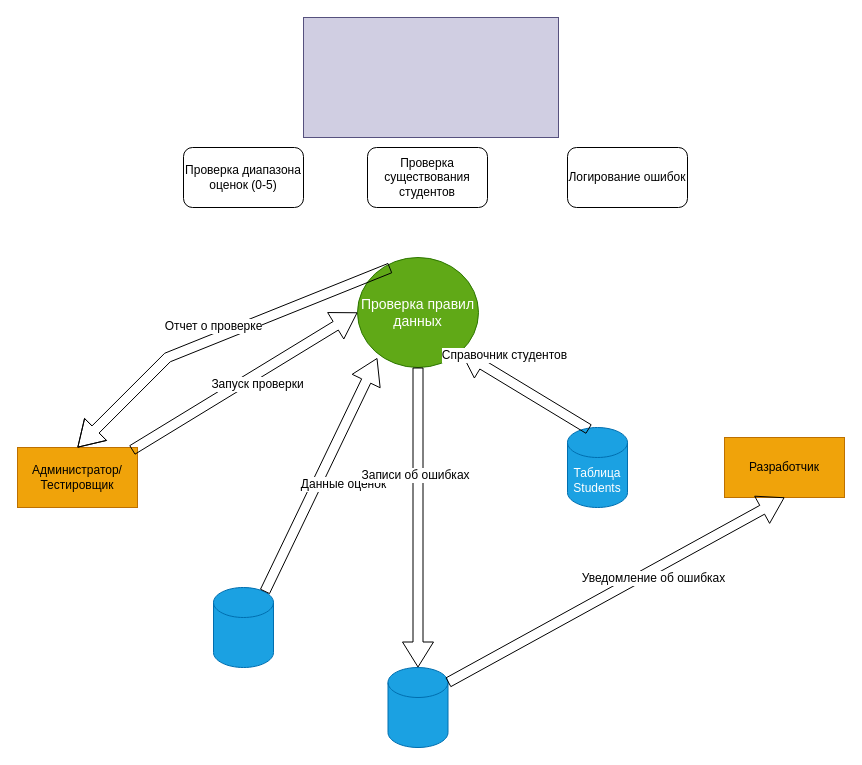
This 862x765 diagram has some shape labels left out. The shapes that lost their labels are listed below. From the top down, each one's box as (x1, y1, x2, y2) in pixels, then its label:
(302, 16, 558, 138): DFD: Процесс автоматической проверки данных
(212, 586, 274, 668): Таблица Grades
(387, 666, 448, 748): ErrorLog
